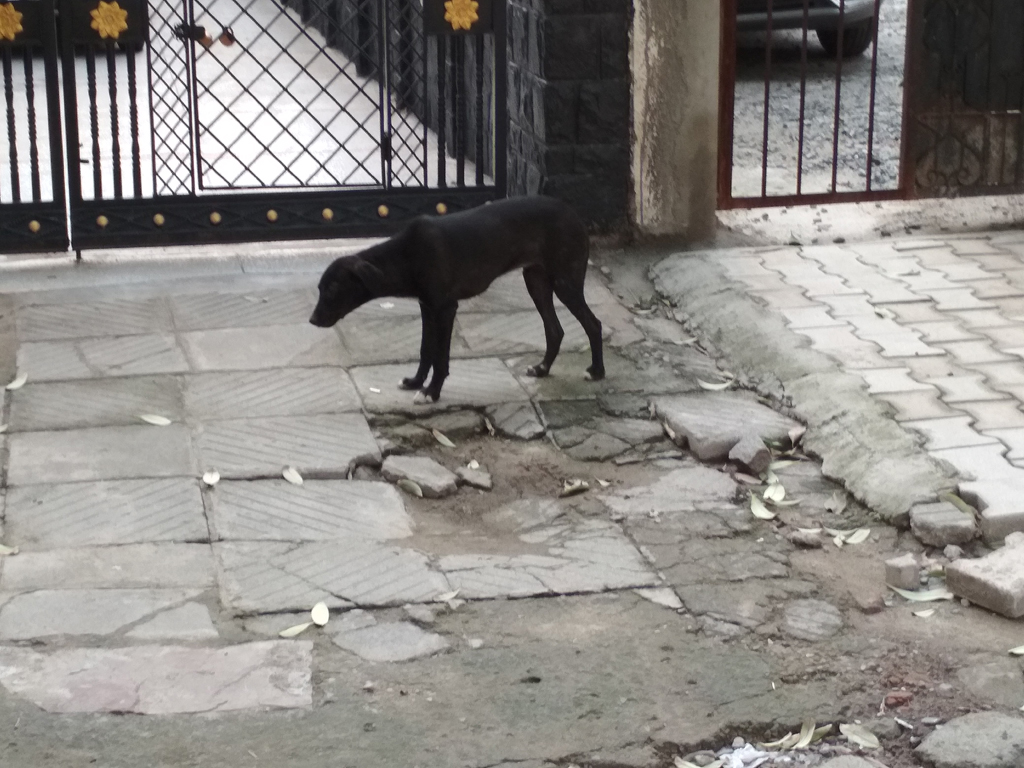dog: (309, 195, 605, 404)
